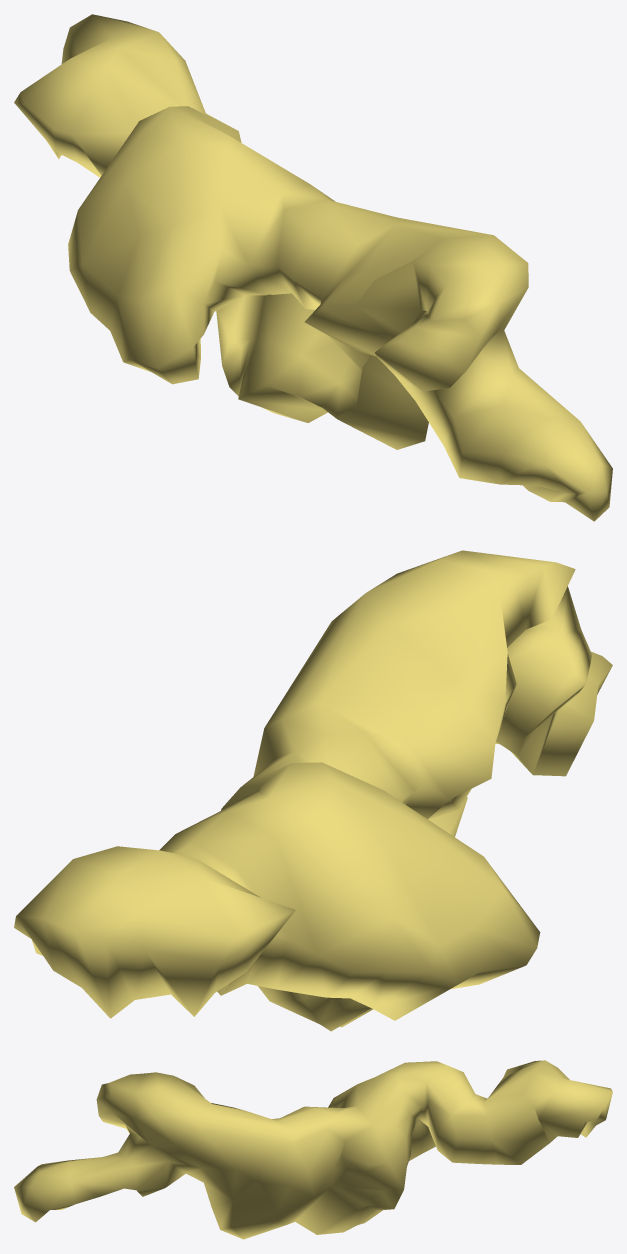
The model's file is circular-sulcus-of-insula-r.glb.
3 views of the same model, one above another, from view 1: azimuth 30°, elevation 25°; view 2: azimuth 150°, elevation 25°; view 3: azimuth 270°, elevation 25° (orthographic). The views are drawn at different scales.
Parts seen in each view (by area): view 1: Circular sulcus of insula.r; view 2: Circular sulcus of insula.r; view 3: Circular sulcus of insula.r.
Part boxes in pixels (x1,y1,x2,y2): Circular sulcus of insula.r: (14, 14, 612, 521); Circular sulcus of insula.r: (14, 550, 612, 1031); Circular sulcus of insula.r: (14, 1060, 612, 1239).
Bounding box in the file's own units: 0.0198 × 0.0179 × 0.0594.
